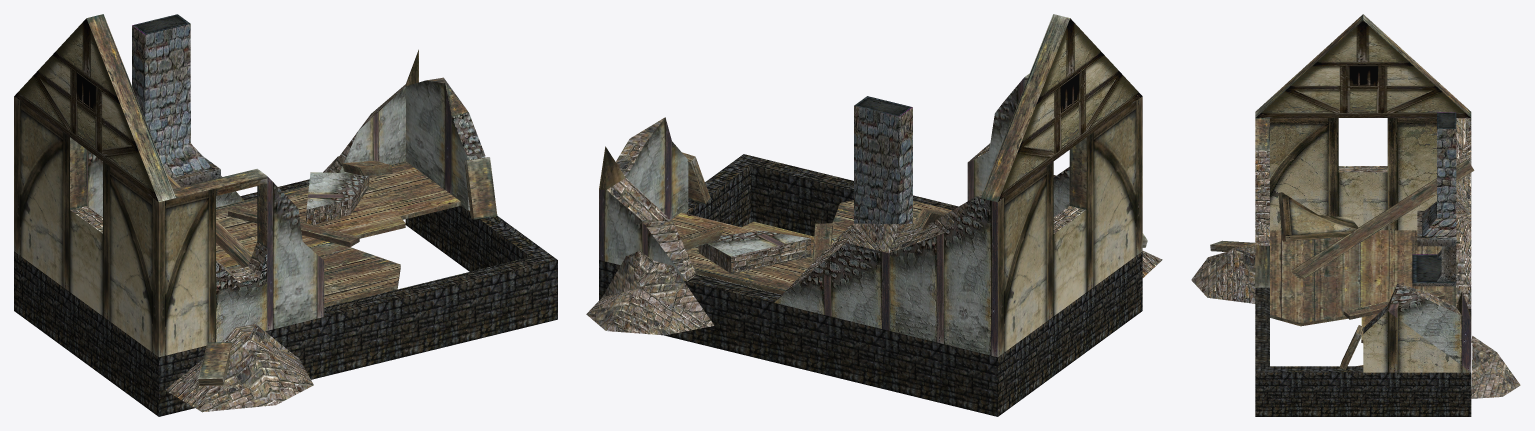
Rendered from S_Ruin04.glb.
3 renders of one model, left to right at view 1: azimuth 30°, elevation 25°; view 2: azimuth 150°, elevation 25°; view 3: azimuth 270°, elevation 25°, orthographic. The views are drawn at different scales.
Parts seen in each view (by area): view 1: S_Ruin04; view 2: S_Ruin04; view 3: S_Ruin04.
Part boxes in pixels (x1,y1,x2,y2): S_Ruin04: [14, 14, 557, 416]; S_Ruin04: [586, 14, 1162, 416]; S_Ruin04: [1191, 14, 1520, 416].
Size of the model in its own units: 7.02 by 5.8 by 6.72.
Materials: 12 (12 with a texture image).
